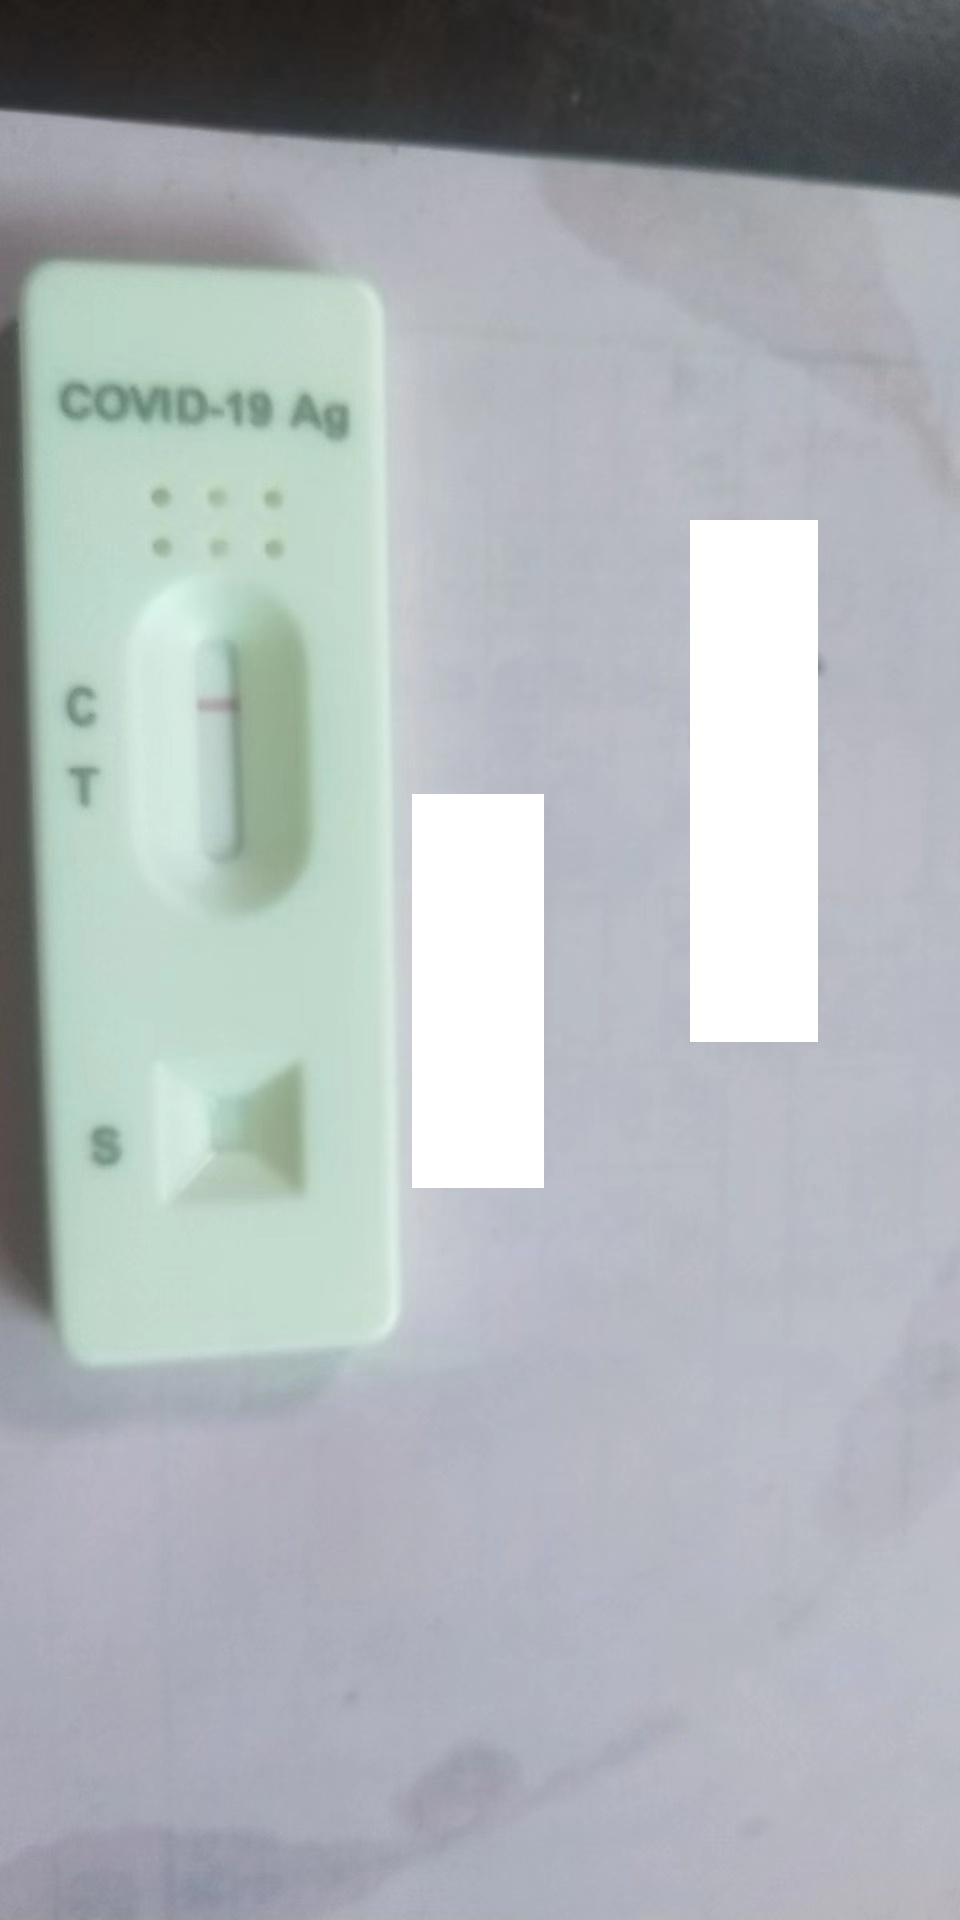negative: (126, 589, 307, 921)
